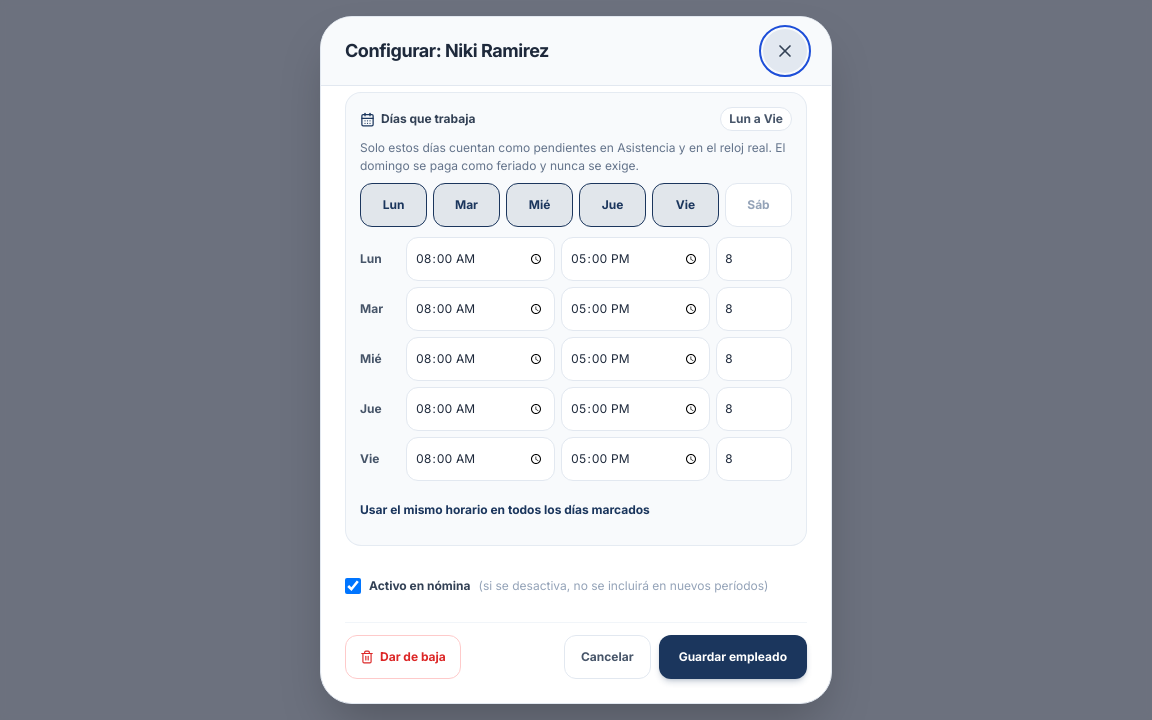
Ficha de empleado — días que trabaja › si quedaron días anteriores sin retirar, avisa y no cierra la ficha
(page scrolled)
Click the button "Guardar empleado" at (733, 657), box [659, 635, 807, 679]
(page scrolled)
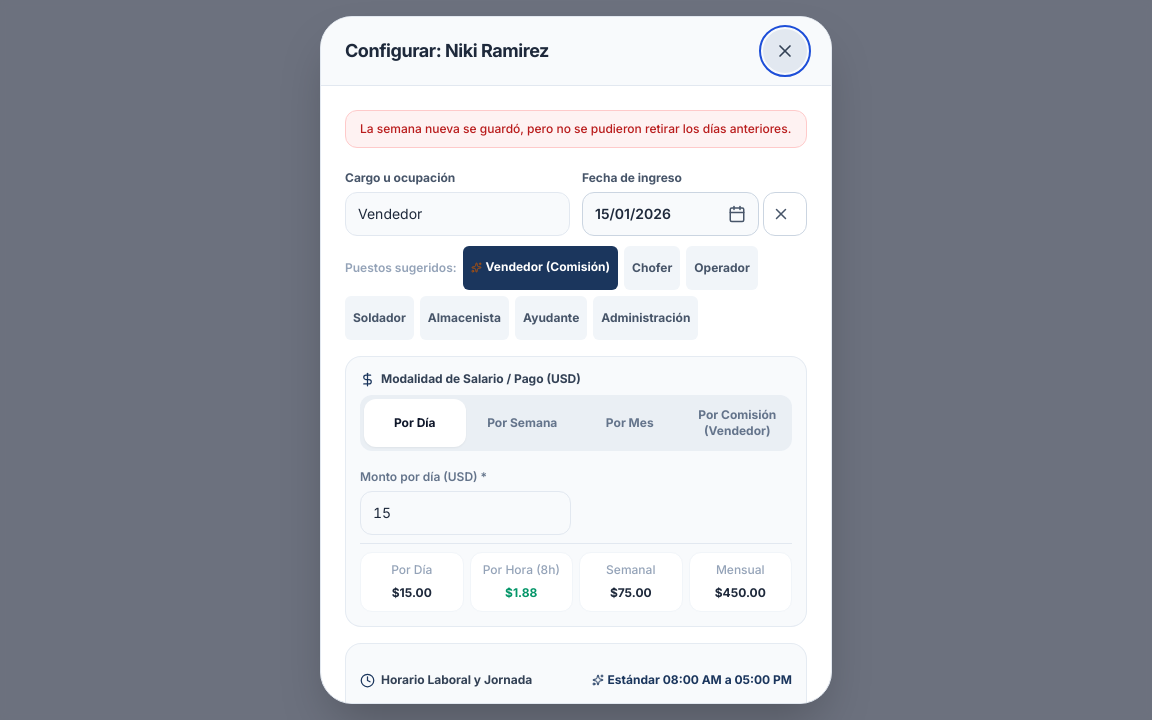
Check: the text "no se pudieron retirar los días anteriores" is shown, box [360, 121, 791, 136]
